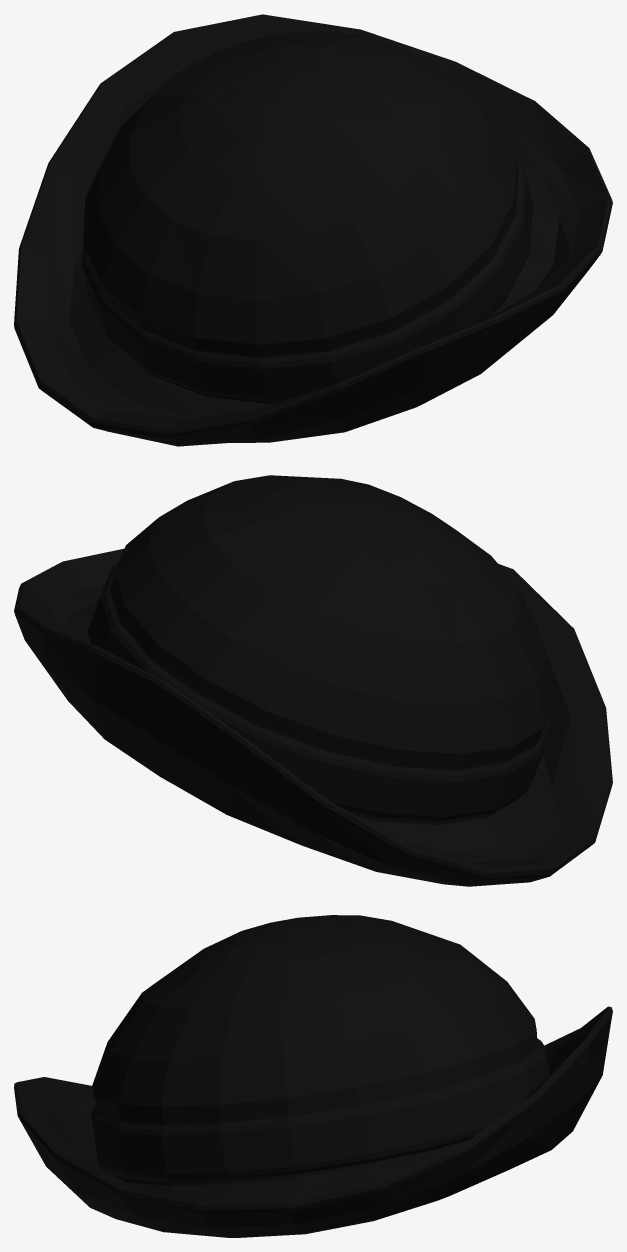
The model's file is hat.obj.
3 renders of one model, top to bottom at view 1: azimuth 30°, elevation 25°; view 2: azimuth 150°, elevation 25°; view 3: azimuth 270°, elevation 25°, orthographic. The views are drawn at different scales.
Visible parts, largest first — view 1: Object.1; view 2: Object.1; view 3: Object.1.
Part boxes in pixels (x1,y1,x2,y2): Object.1: [14, 14, 612, 446]; Object.1: [14, 475, 612, 886]; Object.1: [14, 915, 612, 1237].
Size of the model in its own units: 43.9 by 24.9 by 43.29.
1 material, 1 textured.
